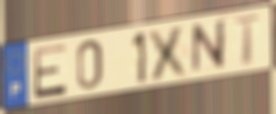0: (74, 37, 105, 93)
1: (130, 29, 149, 85)
E: (32, 42, 69, 102)
N: (190, 17, 228, 77)
T: (232, 13, 264, 68)
X: (146, 22, 192, 83)
